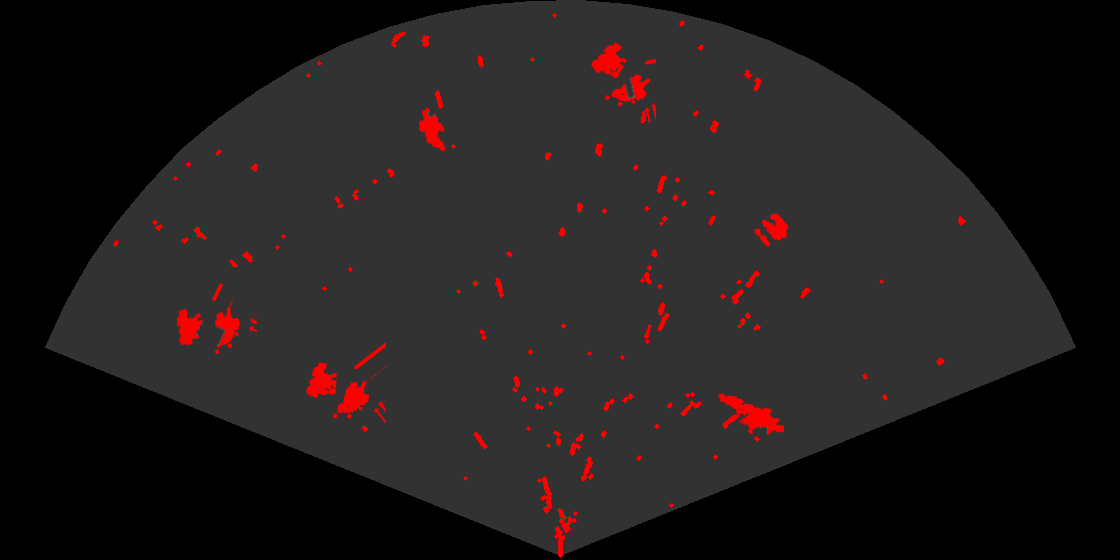AUV: (417, 106, 447, 153)
ball: (753, 212, 790, 248)
cage: (305, 341, 386, 425), (175, 284, 257, 356), (590, 41, 656, 123)
frogman: (716, 392, 784, 437)
